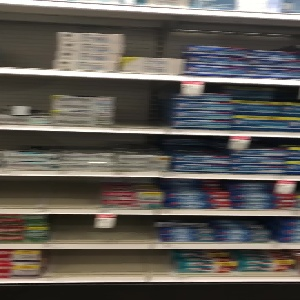void: (46, 249, 174, 275), (1, 176, 99, 207), (1, 9, 49, 69), (52, 218, 160, 242), (116, 78, 166, 127)
